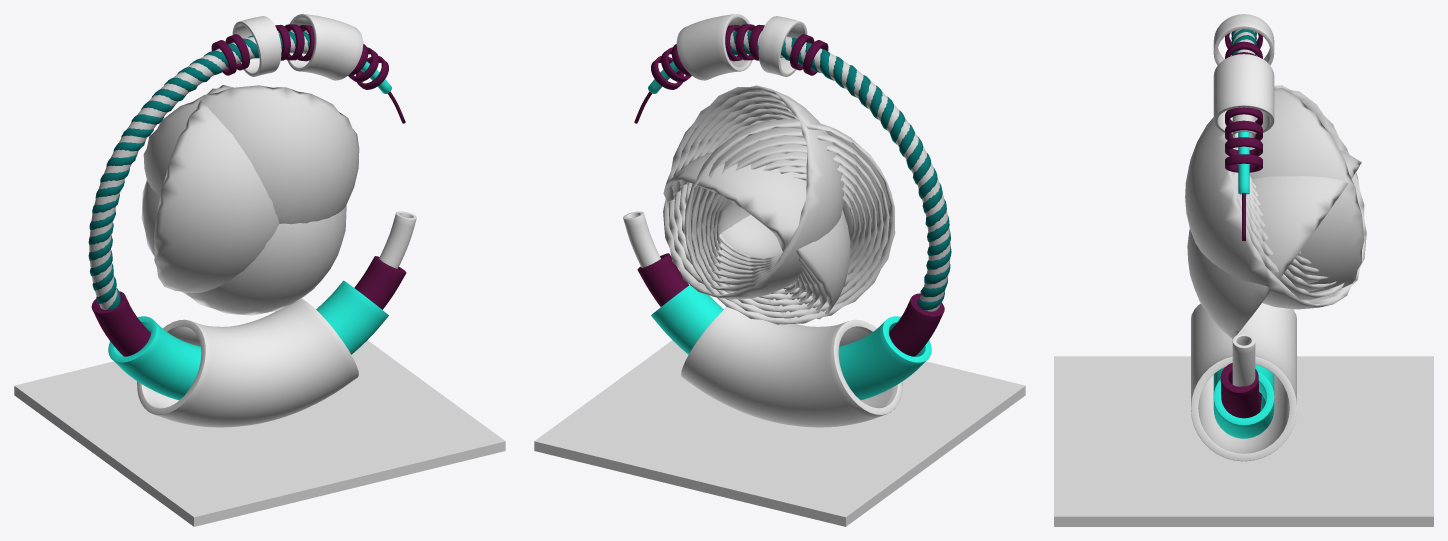
File: AbstractArt.fbx
The picture shows the model from 3 angles, left to right: view 1: azimuth 30°, elevation 25°; view 2: azimuth 150°, elevation 25°; view 3: azimuth 270°, elevation 25°; orthographic projection. The views are drawn at different scales.
Parts seen in each view (by area): view 1: Cube, Sphere, Torus.004, Torus.002, Torus.009, Circle, Torus, Torus.001, Torus.008, Torus.007; view 2: Sphere, Cube, Torus.004, Torus.002, Circle, Torus.009, Torus, Torus.001, Torus.008, Torus.007; view 3: Cube, Sphere, Torus.004, Torus.009, Torus.008, Torus.002, Torus.001, Torus.007, Torus.005, Torus.
Part boxes in pixels (x1,y1,x2,y2): Cube: [14, 340, 505, 526]; Sphere: [141, 85, 359, 315]; Torus.004: [137, 299, 358, 427]; Torus.002: [108, 280, 388, 400]; Torus.009: [232, 14, 363, 80]; Circle: [88, 31, 309, 310]; Torus: [89, 31, 308, 309]; Torus.001: [91, 256, 406, 356]; Torus.008: [211, 24, 388, 89]; Torus.007: [379, 211, 416, 268]; Sphere: [663, 85, 895, 324]; Cube: [534, 340, 1025, 526]; Torus.004: [681, 307, 902, 427]; Torus.002: [651, 285, 931, 400]; Circle: [730, 30, 951, 310]; Torus.009: [676, 14, 807, 80]; Torus: [730, 31, 950, 311]; Torus.001: [637, 253, 944, 356]; Torus.008: [651, 24, 828, 89]; Torus.007: [623, 211, 660, 267]; Cube: [1054, 356, 1433, 526]; Sphere: [1185, 85, 1366, 339]; Torus.004: [1191, 303, 1296, 461]; Torus.009: [1213, 14, 1274, 134]; Torus.008: [1225, 32, 1262, 172]; Torus.002: [1213, 364, 1274, 438]; Torus.001: [1220, 363, 1261, 418]; Torus.007: [1232, 333, 1255, 386]; Torus.005: [1238, 131, 1249, 194]; Torus: [1232, 29, 1255, 138].
Size of the model in its own units: 209 by 247 by 200.
